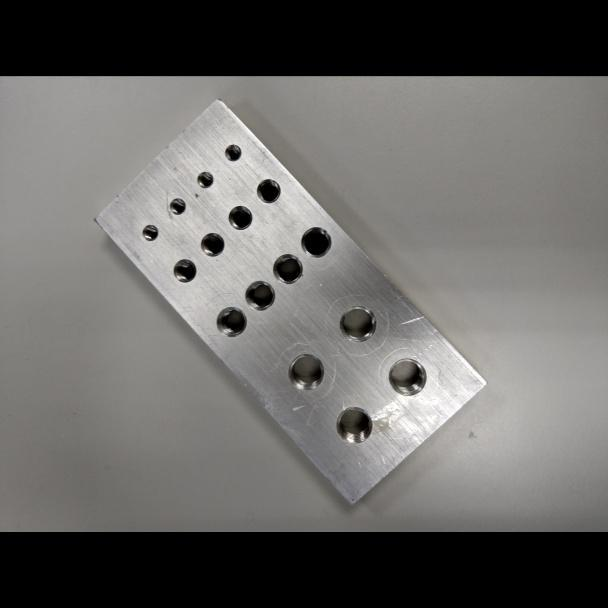hole: (387, 356, 427, 397), (334, 404, 373, 445), (337, 304, 377, 343), (286, 352, 325, 391), (271, 252, 304, 285), (300, 225, 332, 259), (215, 305, 247, 338), (244, 279, 276, 311), (227, 204, 253, 231), (255, 177, 281, 204), (199, 231, 225, 257), (172, 257, 197, 283), (195, 170, 214, 189), (168, 196, 186, 215), (223, 142, 241, 161), (141, 223, 158, 241)
